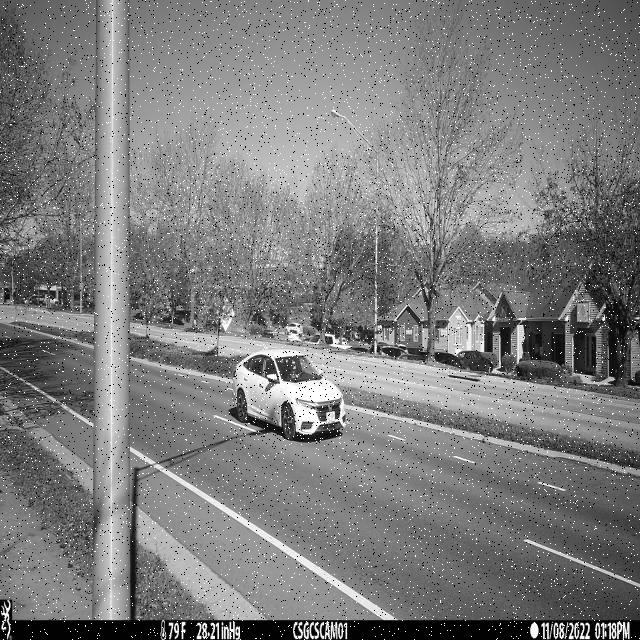Sedan: (231, 347, 345, 441)
